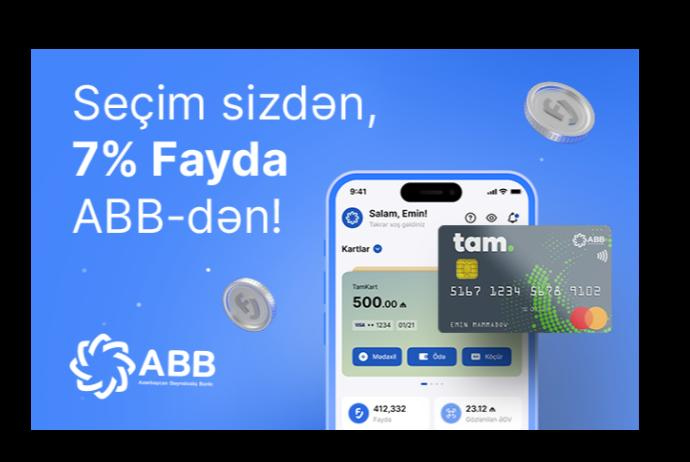ABB: (64, 330, 137, 402), (570, 231, 588, 249), (345, 211, 360, 226)
